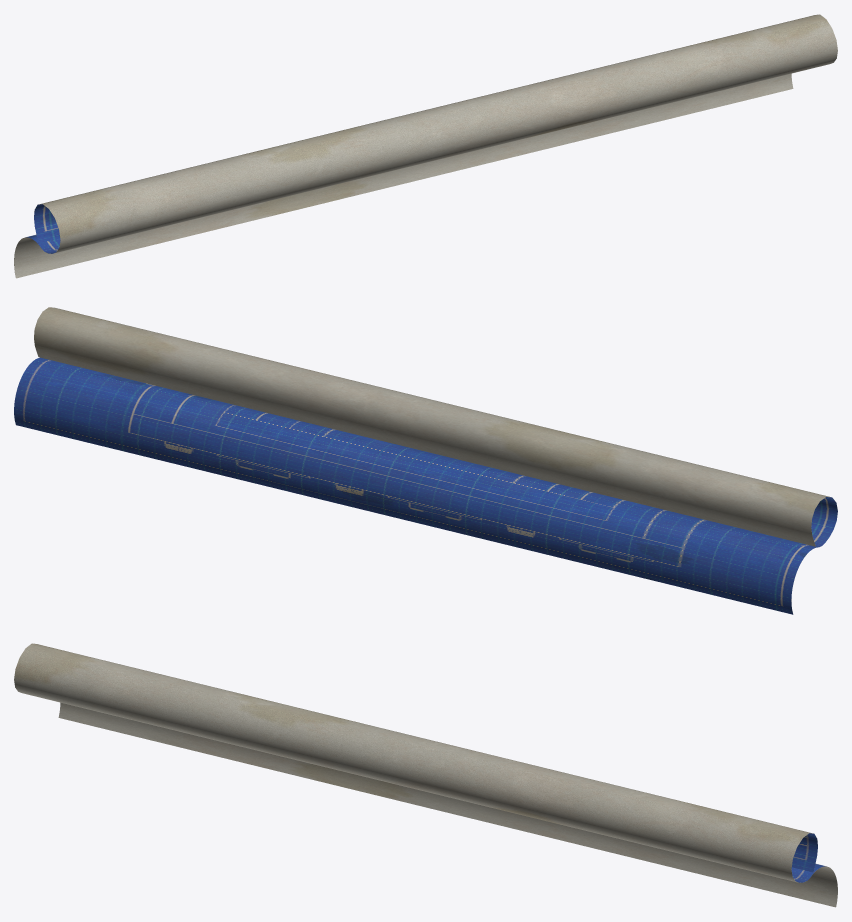
File: Blueprints01.FBX
The picture shows the model from 3 angles, top to bottom: view 1: azimuth 30°, elevation 25°; view 2: azimuth 150°, elevation 25°; view 3: azimuth 330°, elevation 25°; orthographic projection.
Visible parts, largest first — view 1: Blueprint01; view 2: Blueprint01; view 3: Blueprint01.
Part boxes in pixels (<box>): Blueprint01: <box>14,14,837,278</box>; Blueprint01: <box>14,307,837,614</box>; Blueprint01: <box>14,643,837,907</box>.
Bounding box in the file's own units: 96.87 × 11.18 × 10.05.
